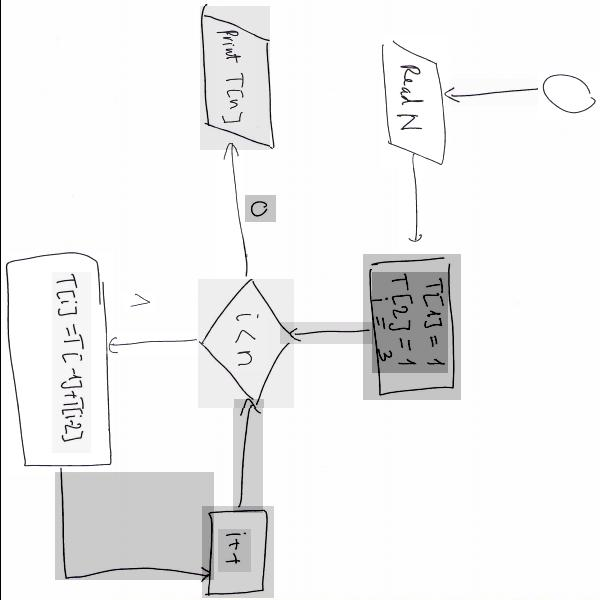arrow: (54, 472, 213, 580), (216, 143, 242, 282), (231, 399, 262, 513), (442, 79, 546, 106), (398, 155, 424, 249), (103, 333, 203, 354), (278, 322, 372, 344), (244, 254, 247, 257)
data: (199, 7, 269, 150), (380, 35, 447, 168)
decision: (197, 279, 292, 408)
process: (8, 253, 112, 474), (362, 254, 460, 400), (201, 506, 273, 598)
terminator: (537, 72, 600, 119)
text: (371, 272, 447, 373), (51, 272, 90, 453), (214, 27, 253, 130), (392, 60, 430, 135), (229, 311, 265, 371), (217, 529, 250, 572), (244, 195, 275, 222), (122, 292, 154, 311)
